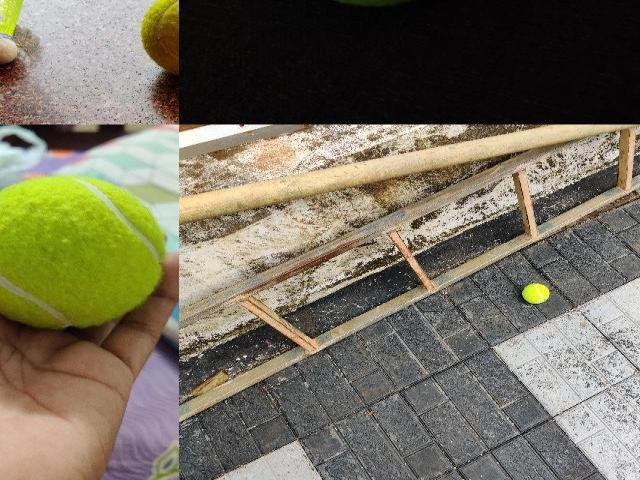tennis-ball: (0, 175, 166, 330), (140, 0, 178, 77), (521, 283, 549, 304)
